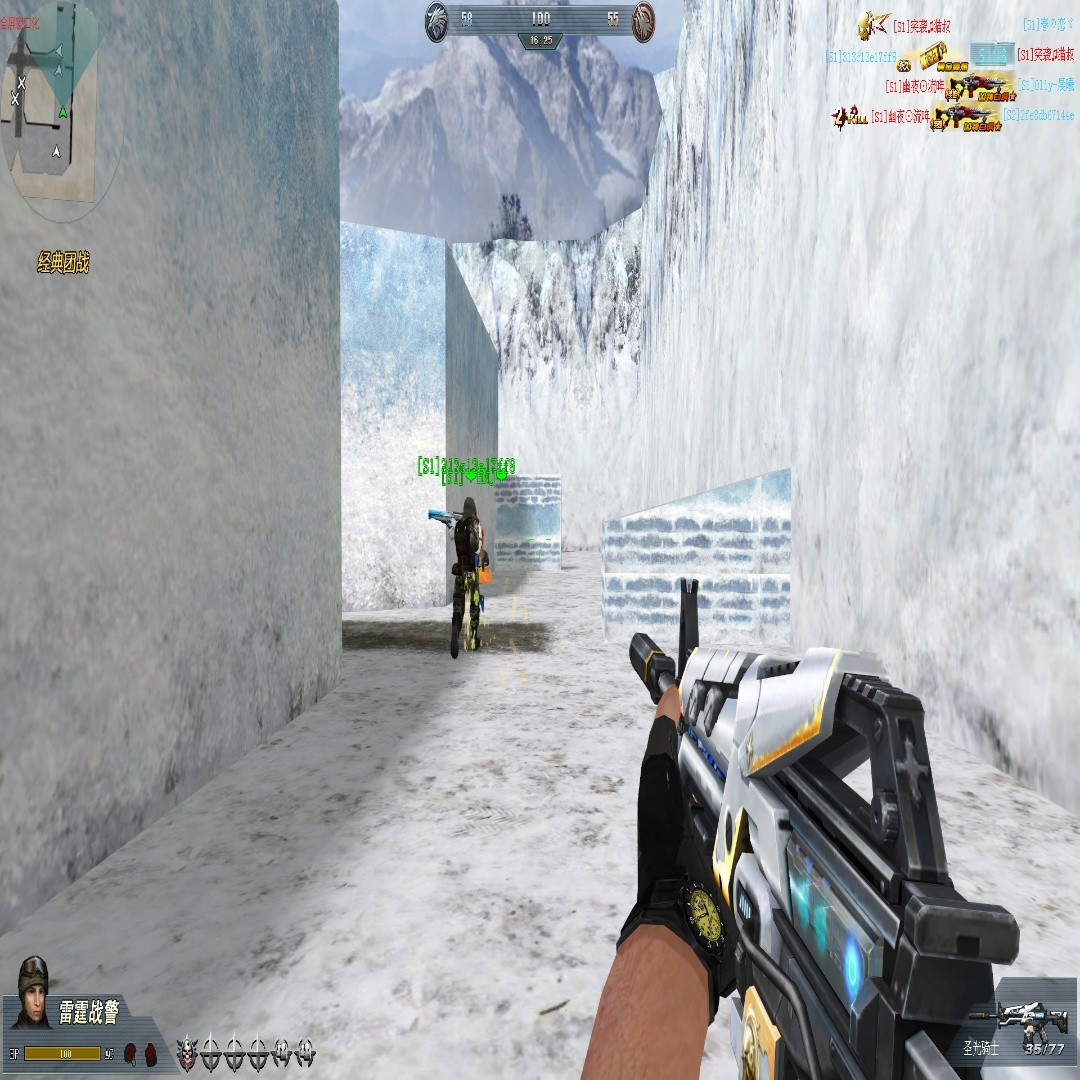ct: (450, 497, 485, 657)
head: (462, 496, 478, 521)
